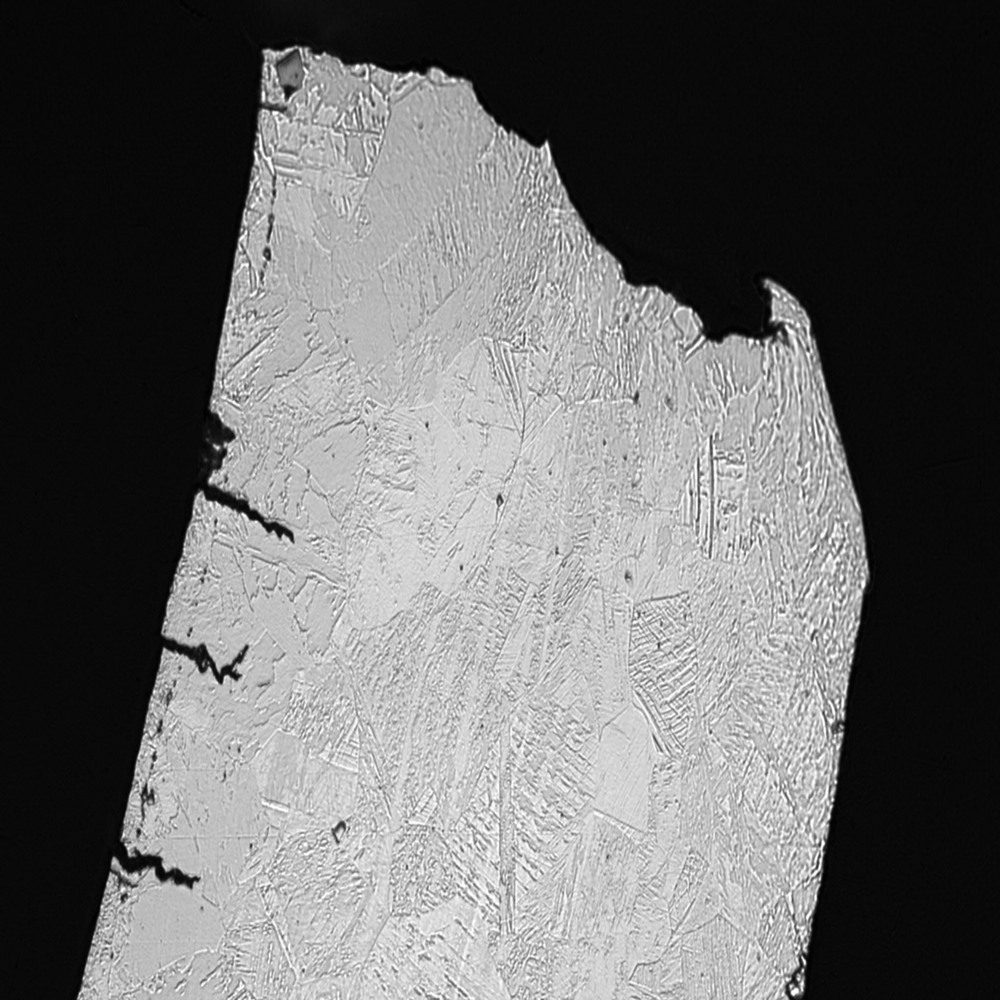crack: (194, 411, 296, 565), (103, 814, 206, 918), (156, 617, 259, 710)
